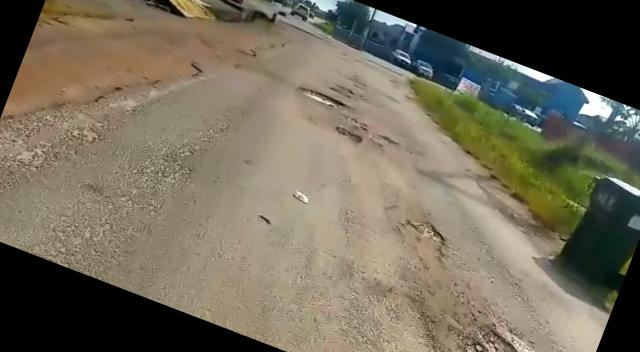pothole: (436, 310, 573, 352), (384, 211, 464, 281), (294, 82, 347, 111), (332, 124, 368, 147)
